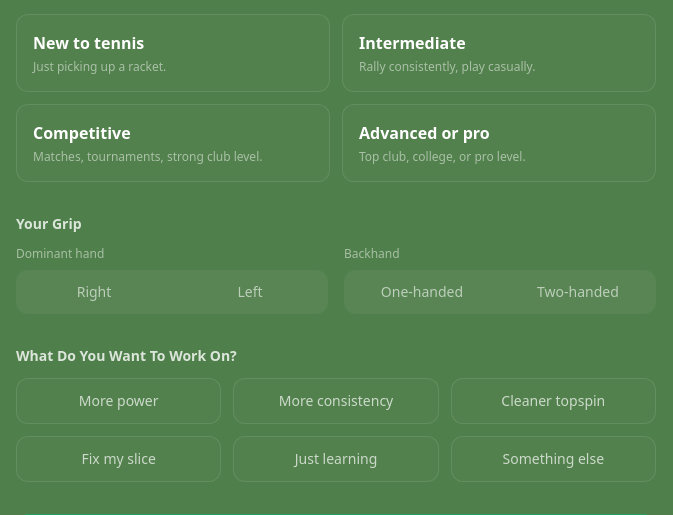
Test: OnboardingPage › shows free-text only when "Something else" is selected
Expected: the heading "What Do You Want To Work On?" is shown, [16,346,237,365]
Expected: the field with placeholder "clean up my serve toss" is not shown
What coordinates should you click on to do the following:
click the button "More power"
I would click on:
 (119, 401)
Its box is [16,378,221,424].
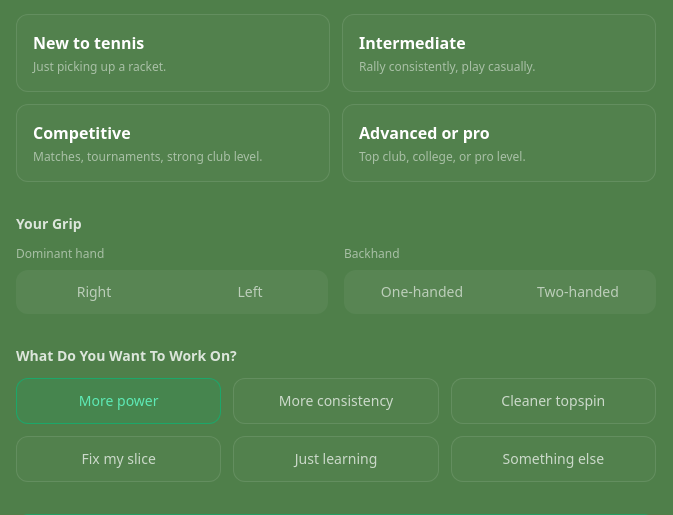
Expected: the field with placeholder "clean up my serve toss" is not shown
What coordinates should you click on to do the following:
click the button "Something else"
I would click on:
 (553, 459)
Its box is [451,436,656,482].
(page scrolled)
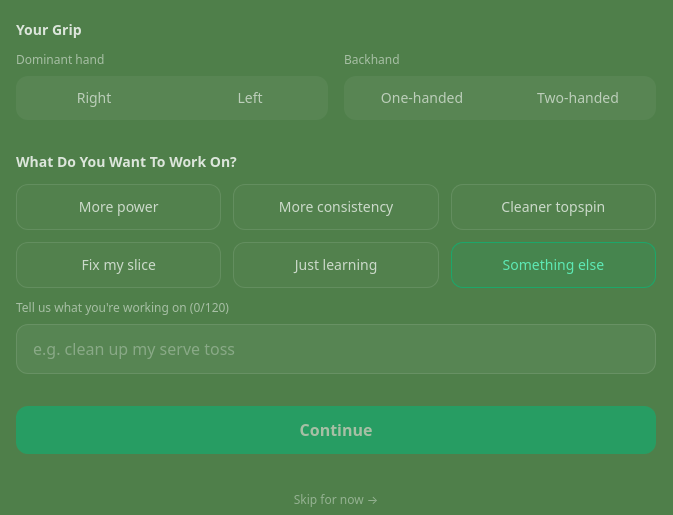
Expected: the field with placeholder "e.g. clean up my serve toss" is shown, [16,324,656,374]
